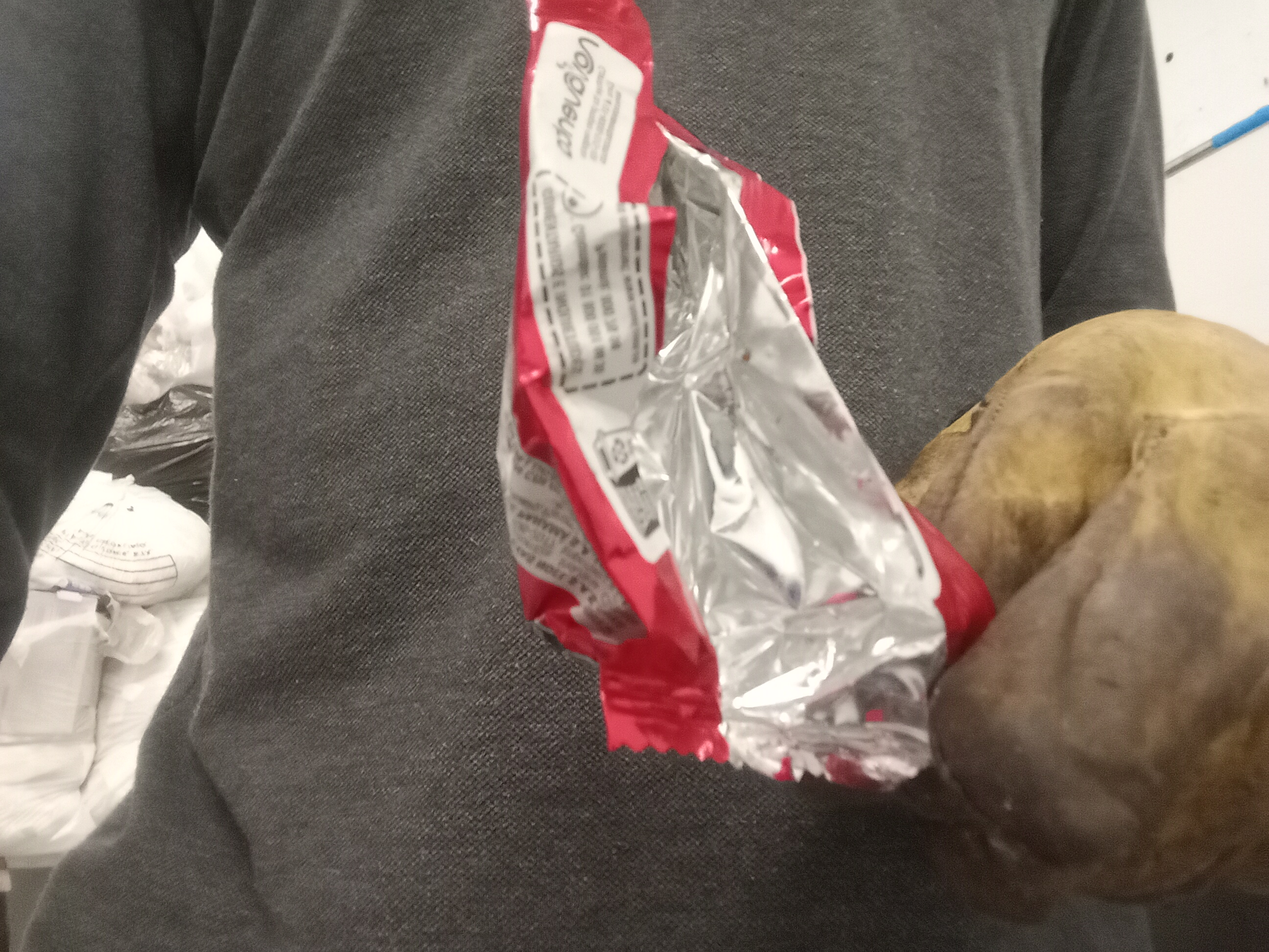Ordinario: (496, 0, 994, 795)
